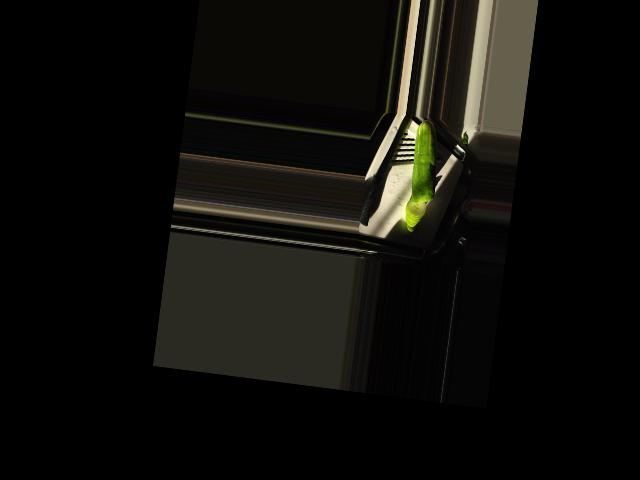cucumber: (407, 119, 443, 205)
